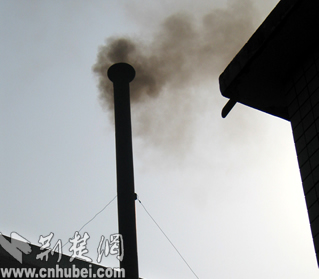dust: (95, 29, 193, 103)
